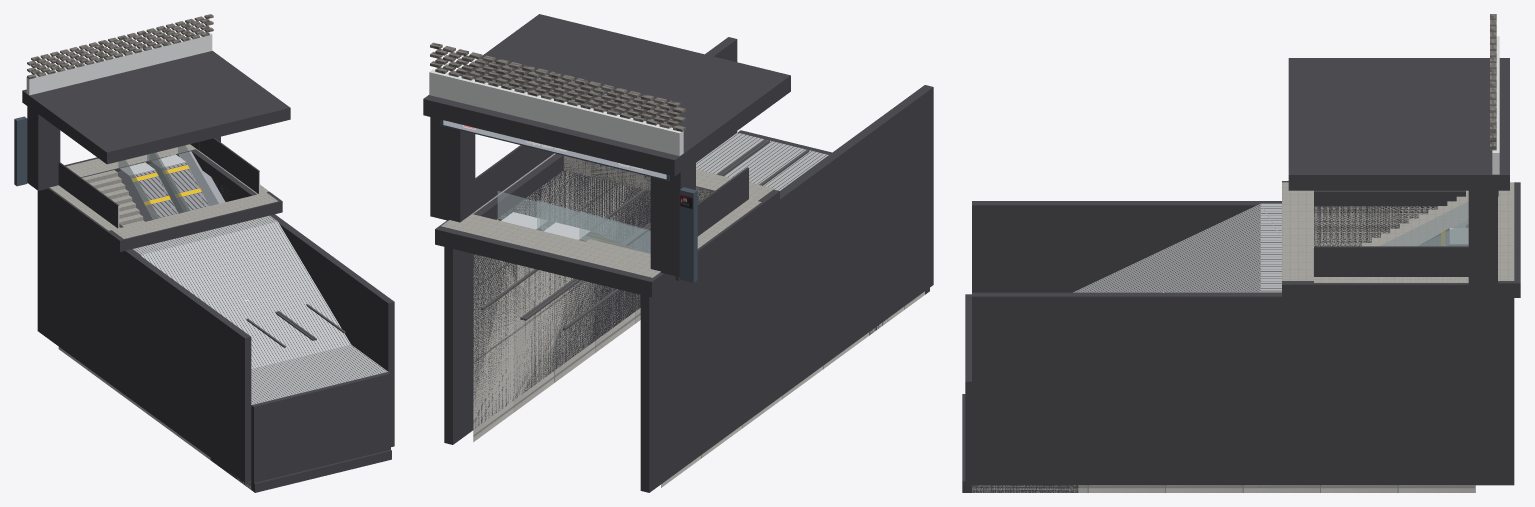
Rendered from wl80-r3-game-metro-assets-exit_longxiangqiao_c.glb.
3 views of the same model, side by side, from view 1: azimuth 30°, elevation 25°; view 2: azimuth 150°, elevation 25°; view 3: azimuth 270°, elevation 25° (orthographic). The views are drawn at different scales.
Visible parts, largest first — view 1: ex_col, ex_shaft, ex_kiosk, landing_cap_col; view 2: ex_col, ex_shaft, ex_kiosk; view 3: ex_col, ex_shaft, ex_kiosk, landing_cap_col.
Boxes of the visible parts, box(x1,y1,x2,y2) form: ex_col: box(22, 51, 394, 492); ex_shaft: box(58, 145, 387, 489); ex_kiosk: box(14, 14, 277, 238); landing_cap_col: box(251, 372, 390, 482); ex_col: box(423, 14, 933, 492); ex_shaft: box(473, 132, 924, 487); ex_kiosk: box(429, 42, 774, 282); ex_col: box(962, 58, 1520, 492); ex_shaft: box(972, 190, 1475, 492); ex_kiosk: box(1282, 14, 1514, 282); landing_cap_col: box(965, 294, 971, 481).
Size of the model in its own units: 9.11 by 12.96 by 17.3.
17 materials, 8 textured.
